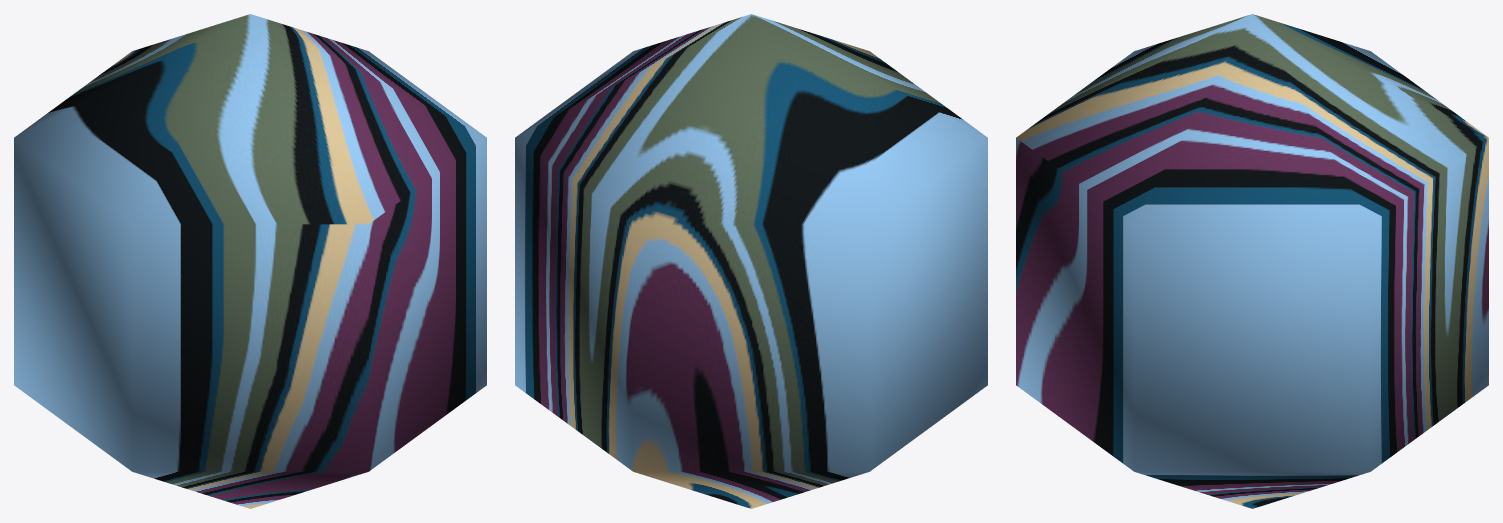
Rendered from milkywaymarble_shooter.DAE.
3 views of the same model, side by side, from view 1: azimuth 30°, elevation 25°; view 2: azimuth 150°, elevation 25°; view 3: azimuth 270°, elevation 25° (orthographic).
Visible parts, largest first — view 1: Shooter_E; view 2: Shooter_E; view 3: Shooter_E.
Part boxes in pixels (box(x1,y1,x2,y2)): Shooter_E: box(14, 14, 486, 508); Shooter_E: box(515, 14, 987, 508); Shooter_E: box(1016, 14, 1488, 508).
Bounding box in the file's own units: 0.0381 × 0.044 × 0.0508.
Materials: 1 (1 with a texture image).
